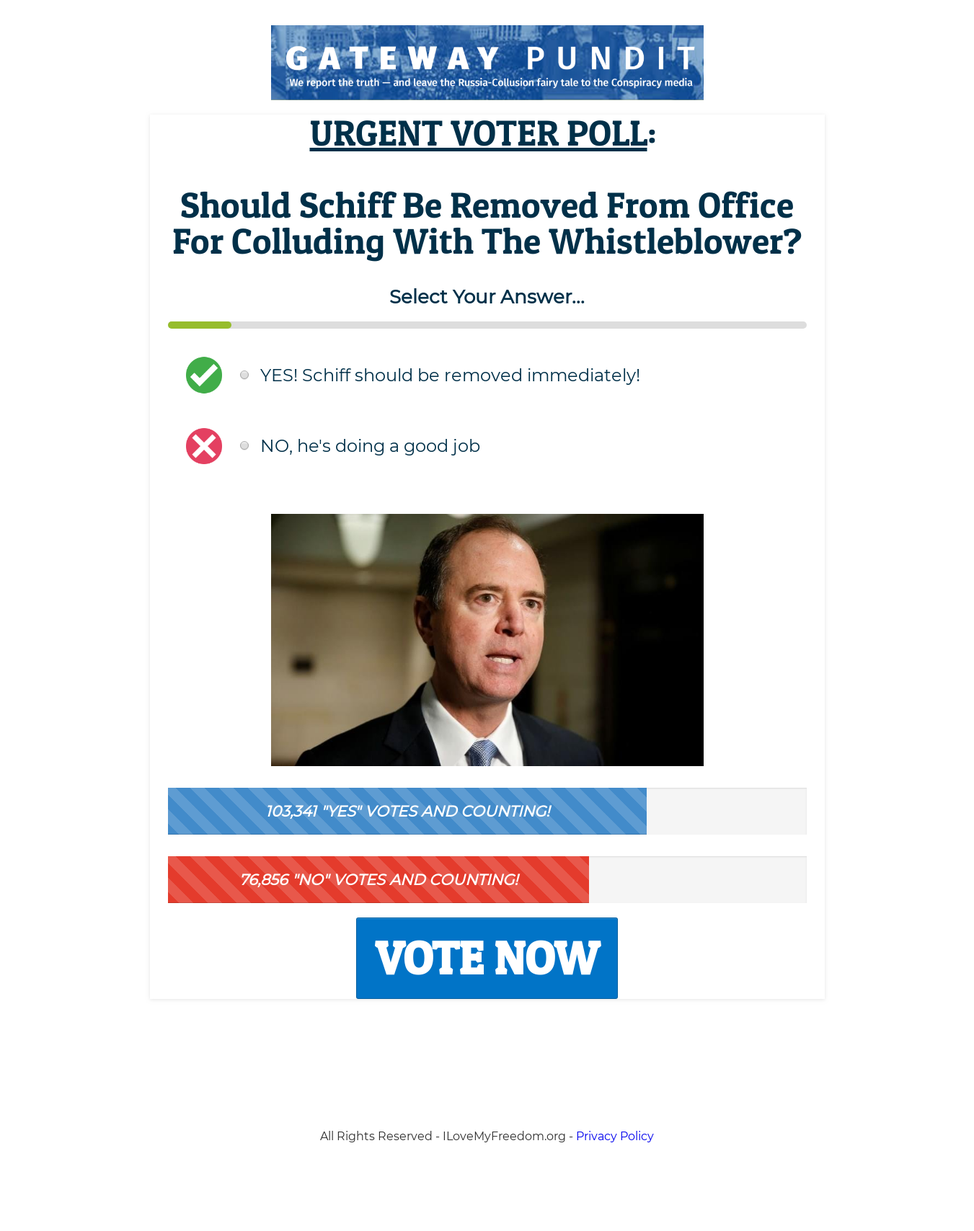fake_button: (346, 903, 651, 1022)
